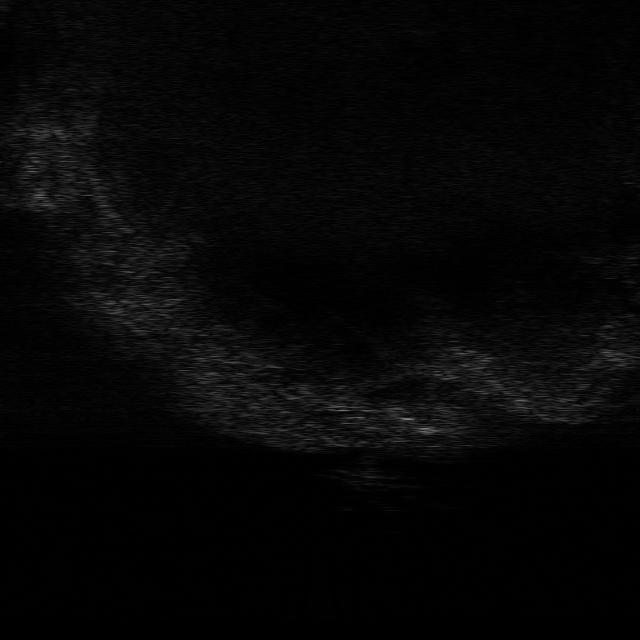plane: (320, 465, 416, 494)
